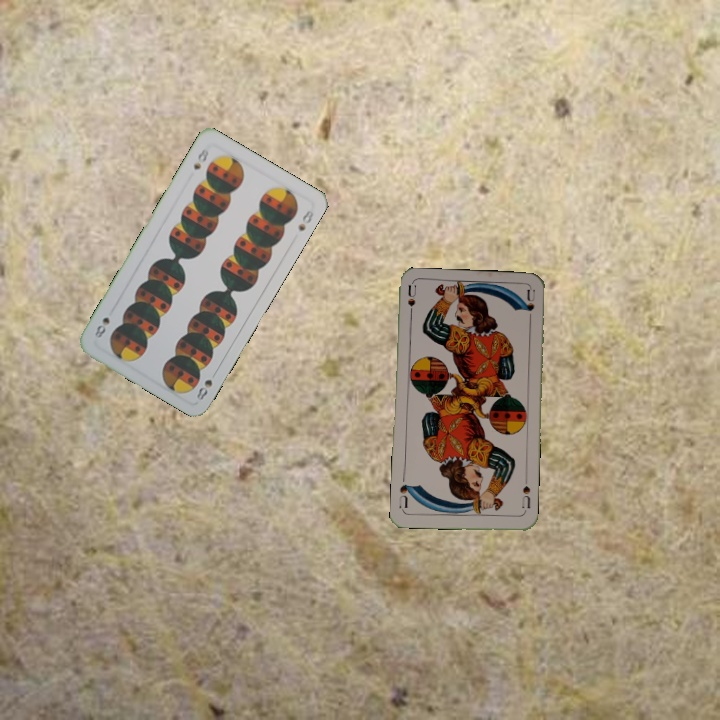S8: (189, 144, 211, 172), (193, 375, 215, 403)
SU: (518, 475, 533, 516), (404, 282, 418, 323)
